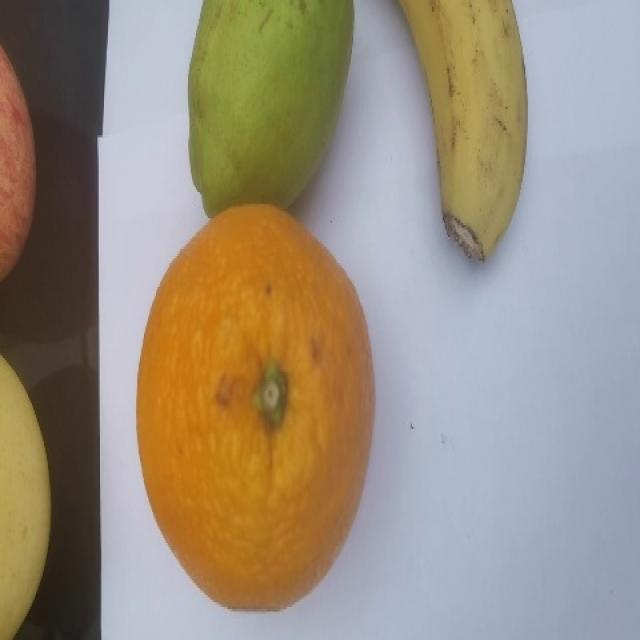Apple: (0, 43, 42, 280)
Banana: (391, 0, 528, 262)
Orange: (132, 197, 378, 613)
